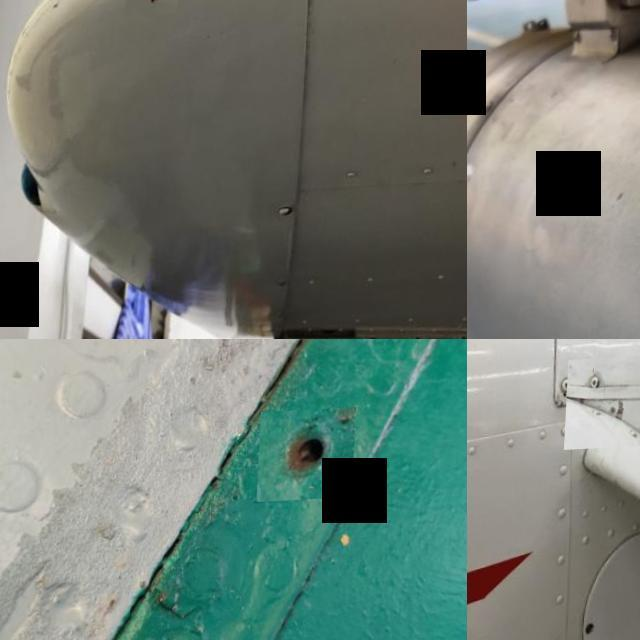Crack: (568, 357, 640, 452), (458, 0, 467, 143), (127, 0, 182, 18)
Missing_Fastener: (261, 413, 359, 506)
